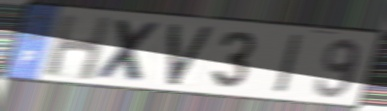3: (208, 30, 260, 90)
9: (312, 36, 362, 99)
H: (43, 12, 114, 83)
I: (272, 31, 306, 96)
V: (164, 22, 217, 88)
X: (93, 16, 165, 85)
